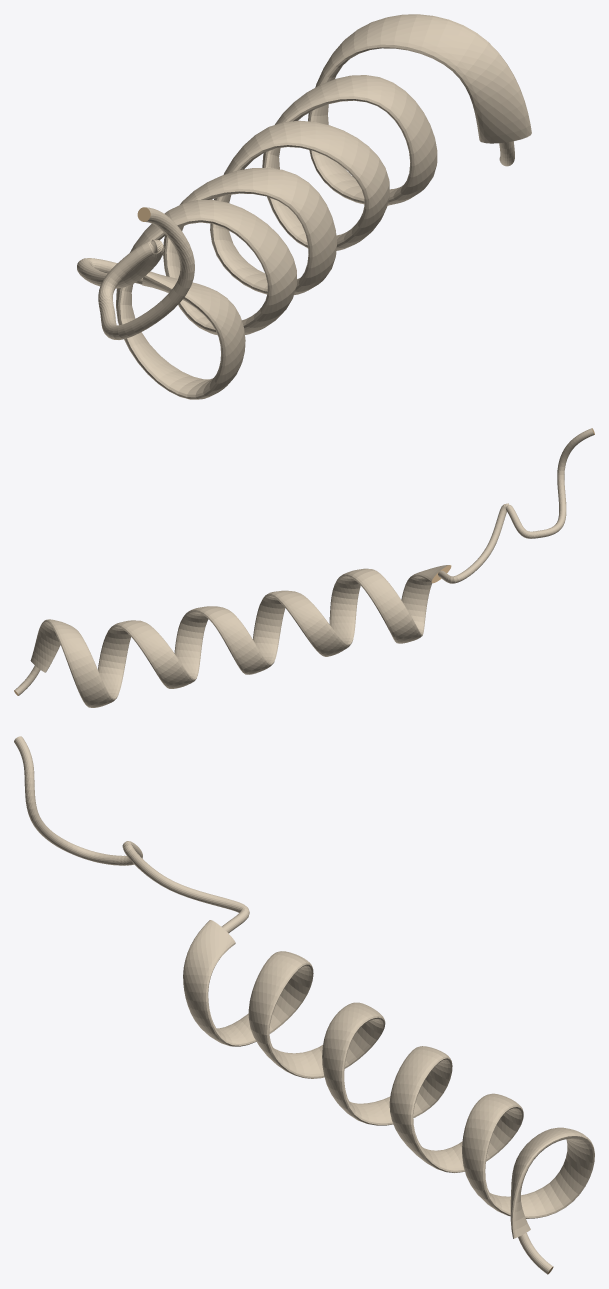
The model's file is rCoilrCoil.dae.
The picture shows the model from 3 angles, top to bottom: view 1: azimuth 30°, elevation 25°; view 2: azimuth 150°, elevation 25°; view 3: azimuth 270°, elevation 25°; orthographic projection. The views are drawn at different scales.
Parts seen in each view (by area): view 1: Shape_IndexedTriangleStripSet_027; view 2: Shape_IndexedTriangleStripSet_027; view 3: Shape_IndexedTriangleStripSet_027.
Boxes of the visible parts, <box> form: Shape_IndexedTriangleStripSet_027: <box>77,14,531,399</box>; Shape_IndexedTriangleStripSet_027: <box>14,428,594,707</box>; Shape_IndexedTriangleStripSet_027: <box>14,736,594,1274</box>.
Bounding box in the file's own units: 30.12 × 29.33 × 16.15.
